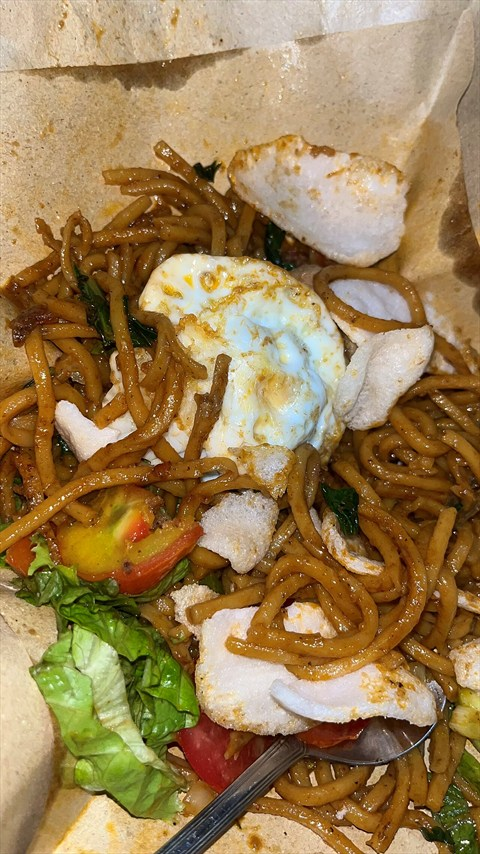Mie Goreng: (34, 184, 437, 756)
